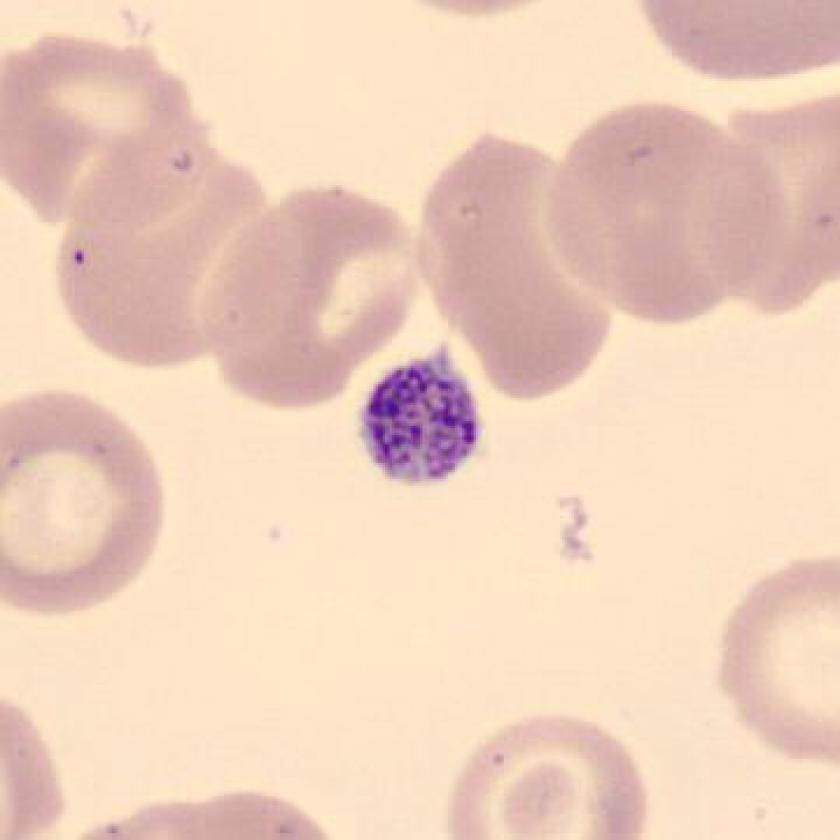platelets: (351, 339, 500, 503)
